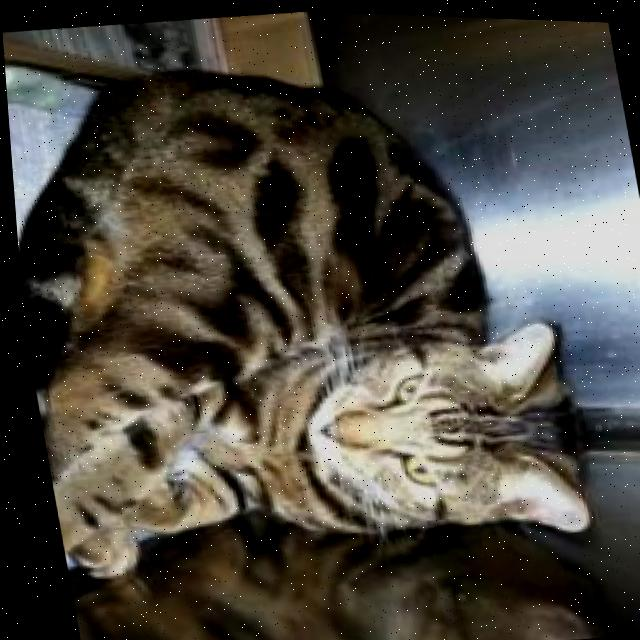Bengal: (1, 23, 622, 610)
